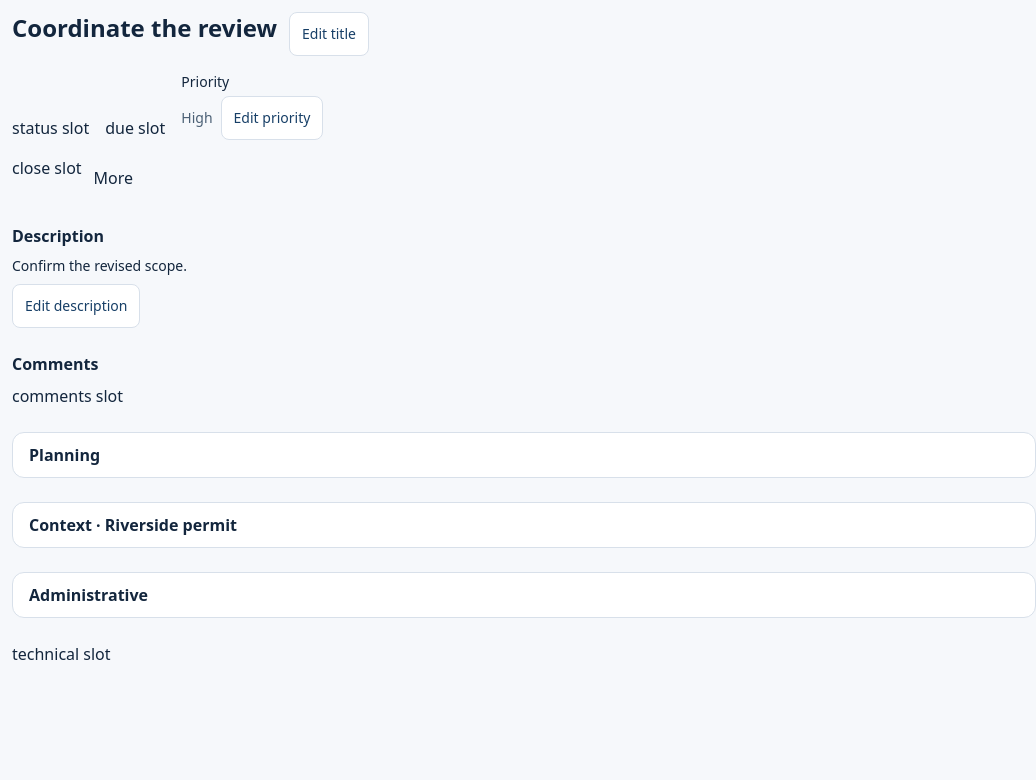
it: progressive Task detail › shows a human Context label when one is available
This screenshot has width=1036, height=780.
Click the heading "Context · Riverside permit". click: (133, 525)
box: [29,514,237,536]
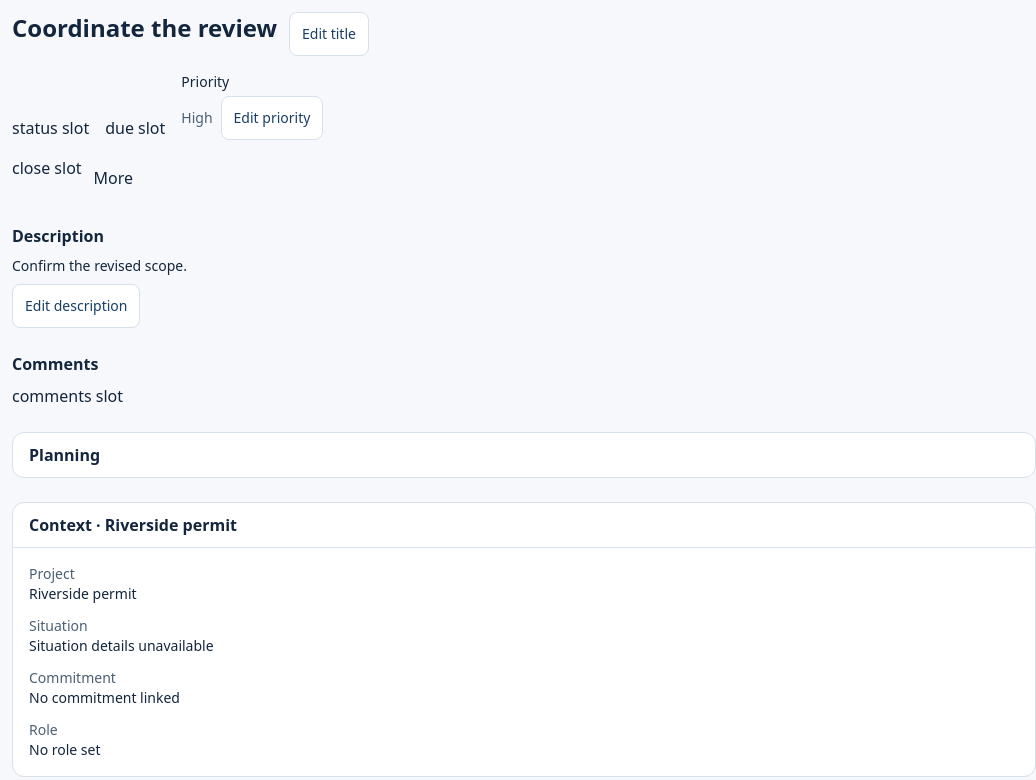
Expected: the text "Riverside permit" is shown, [29,584,137,603]
